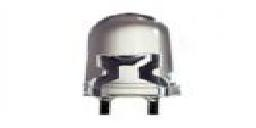LED: (82, 11, 183, 119)
